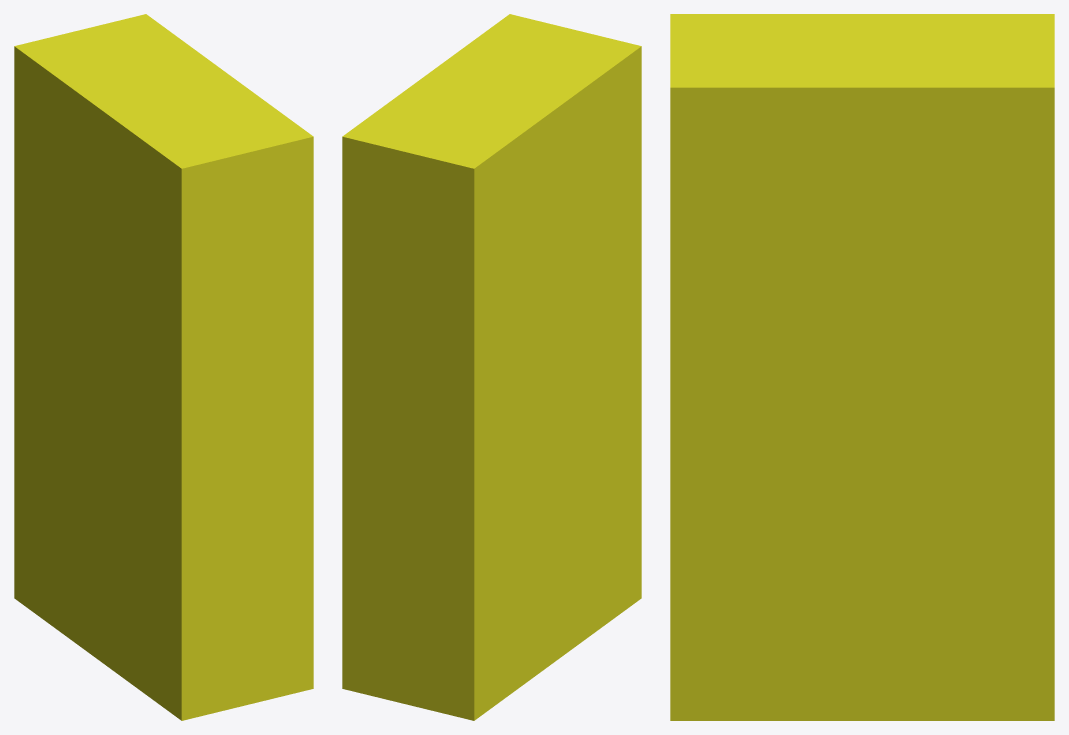
File: asset.glb
3 views of the same model, side by side, from view 1: azimuth 30°, elevation 25°; view 2: azimuth 150°, elevation 25°; view 3: azimuth 270°, elevation 25° (orthographic). The views are drawn at different scales.
Parts seen in each view (by area): view 1: Cube; view 2: Cube; view 3: Cube.
Part boxes in pixels (box(x1,y1,x2,y2)): Cube: box(14, 14, 313, 720); Cube: box(342, 14, 641, 720); Cube: box(670, 14, 1054, 720).
Size of the model in its own units: 0.5 by 2 by 1.1.
